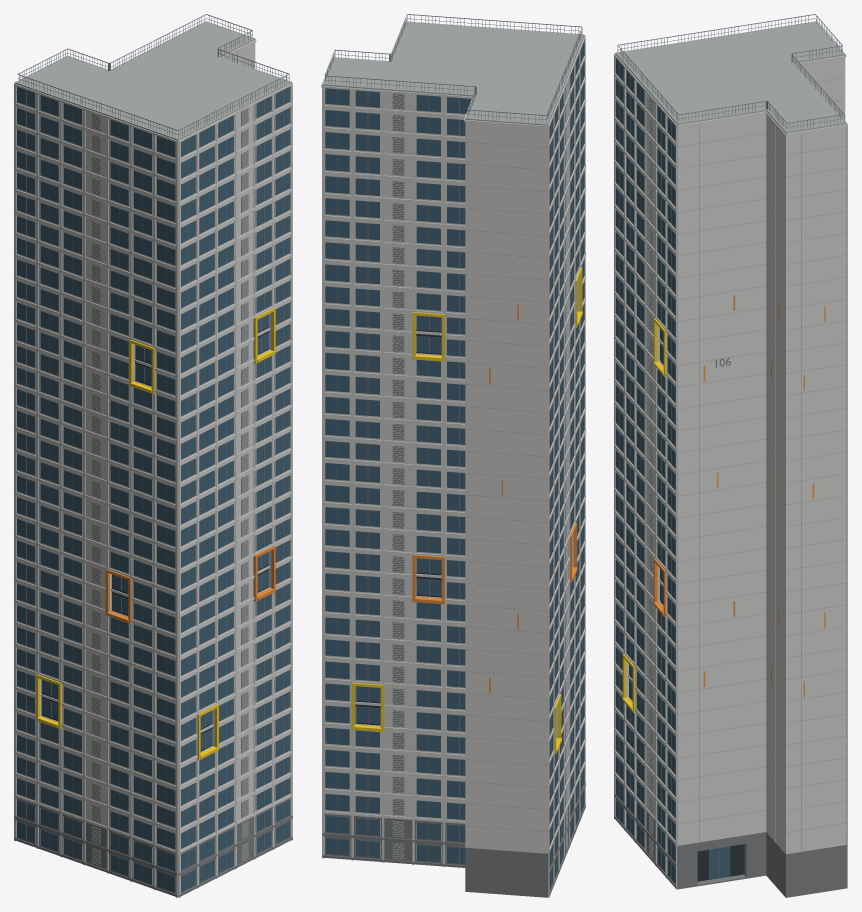
The model's file is bespoke-songpa-helio-city-106.glb.
3 renders of one model, left to right at view 1: azimuth 30°, elevation 25°; view 2: azimuth 150°, elevation 25°; view 3: azimuth 270°, elevation 25°, orthographic. The views are drawn at different scales.
Parts seen in each view (by area): view 1: Helio106_editable_Helio106_dark_blue_grey_glazing002, Helio106_editable_Helio106_white_slab_frames002, Helio106_editable_Helio106_grey_service_grille002, Helio106_editable_Helio106_low_roof_deck002, Helio106_editable_Helio106_blankwall_grey_panels002, Helio106_editable_Helio106_dark_grey_twofloor_base002, Helio106_editable_Helio106_yellow_projecting_rectangular_fra, Helio106_editable_Helio106_orange_narrow_accent002; view 2: Helio106_editable_Helio106_white_slab_frames002, Helio106_editable_Helio106_dark_blue_grey_glazing002, Helio106_editable_Helio106_grey_service_grille002, Helio106_editable_Helio106_low_roof_deck002, Helio106_editable_Helio106_dark_grey_twofloor_base002, Helio106_editable_Helio106_blankwall_grey_panels002, Helio106_editable_Helio106_yellow_projecting_rectangular_fra, Helio106_editable_Helio106_orange_narrow_accent002, Helio106_editable_Helio106_deep_shaded_frame_recess002; view 3: Helio106_editable_Helio106_white_slab_frames002, Helio106_editable_Helio106_dark_blue_grey_glazing002, Helio106_editable_Helio106_low_roof_deck002, Helio106_editable_Helio106_grey_service_grille002, Helio106_editable_Helio106_dark_grey_twofloor_base002, Helio106_editable_Helio106_blankwall_grey_panels002, Helio106_editable_Helio106_orange_narrow_accent002, Helio106_editable_Helio106_yellow_projecting_rectangular_fra, Helio106_editable_Helio106_deep_shaded_frame_recess002.
Boxes of the visible parts, left/top/right/bottom form: Helio106_editable_Helio106_dark_blue_grey_glazing002: left=17, top=87, right=290, bottom=892; Helio106_editable_Helio106_white_slab_frames002: left=14, top=39, right=292, bottom=897; Helio106_editable_Helio106_grey_service_grille002: left=17, top=14, right=289, bottom=889; Helio106_editable_Helio106_low_roof_deck002: left=15, top=21, right=291, bottom=140; Helio106_editable_Helio106_blankwall_grey_panels002: left=92, top=47, right=248, bottom=865; Helio106_editable_Helio106_dark_grey_twofloor_base002: left=14, top=797, right=292, bottom=896; Helio106_editable_Helio106_yellow_projecting_rectangular_fra: left=36, top=307, right=275, bottom=760; Helio106_editable_Helio106_orange_narrow_accent002: left=105, top=545, right=275, bottom=623; Helio106_editable_Helio106_white_slab_frames002: left=321, top=23, right=585, bottom=897; Helio106_editable_Helio106_dark_blue_grey_glazing002: left=325, top=41, right=584, bottom=889; Helio106_editable_Helio106_grey_service_grille002: left=324, top=14, right=582, bottom=886; Helio106_editable_Helio106_low_roof_deck002: left=322, top=21, right=584, bottom=125; Helio106_editable_Helio106_dark_grey_twofloor_base002: left=322, top=783, right=585, bottom=897; Helio106_editable_Helio106_blankwall_grey_panels002: left=393, top=83, right=567, bottom=858; Helio106_editable_Helio106_yellow_projecting_rectangular_fra: left=351, top=267, right=582, bottom=754; Helio106_editable_Helio106_orange_narrow_accent002: left=412, top=304, right=577, bottom=693; Helio106_editable_Helio106_deep_shaded_frame_recess002: left=355, top=316, right=441, bottom=725; Helio106_editable_Helio106_white_slab_frames002: left=614, top=23, right=847, bottom=889; Helio106_editable_Helio106_dark_blue_grey_glazing002: left=615, top=58, right=730, bottom=883; Helio106_editable_Helio106_low_roof_deck002: left=615, top=21, right=846, bottom=133; Helio106_editable_Helio106_grey_service_grille002: left=617, top=14, right=846, bottom=879; Helio106_editable_Helio106_dark_grey_twofloor_base002: left=614, top=776, right=846, bottom=897; Helio106_editable_Helio106_blankwall_grey_panels002: left=649, top=60, right=832, bottom=856; Helio106_editable_Helio106_orange_narrow_accent002: left=653, top=295, right=825, bottom=696; Helio106_editable_Helio106_yellow_projecting_rectangular_fra: left=622, top=318, right=667, bottom=712; Helio106_editable_Helio106_deep_shaded_frame_recess002: left=629, top=339, right=743, bottom=881.
Size of the model in its own units: 30.76 by 99 by 27.12.
